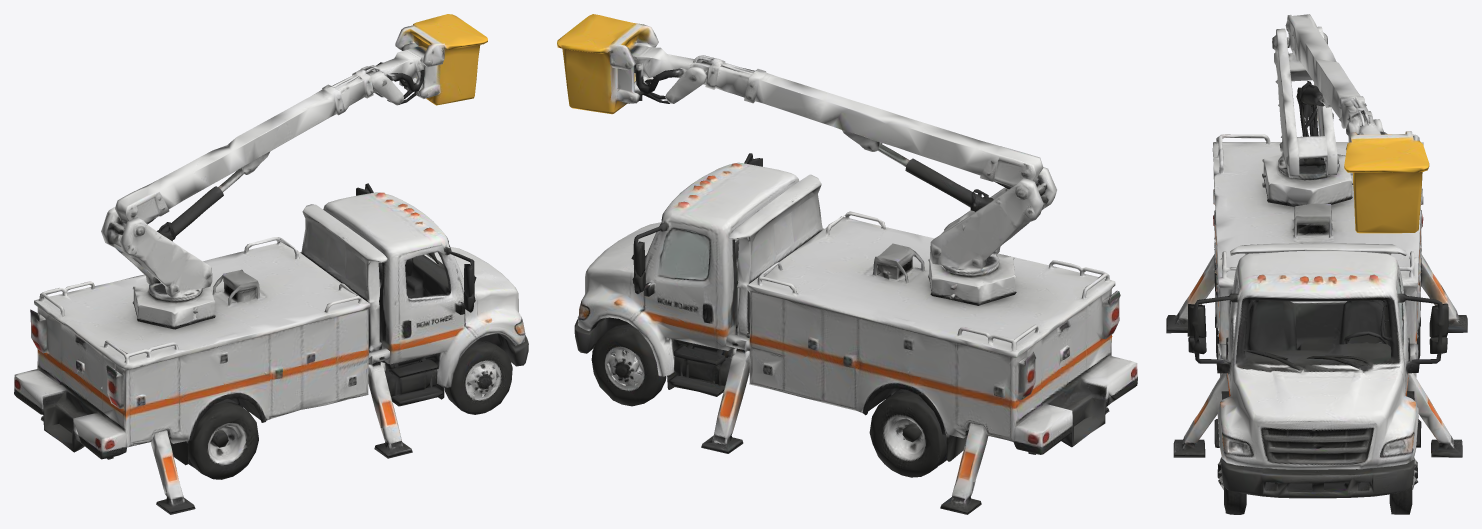
Rendered from lt_truck.glb.
3 views of the same model, side by side, from view 1: azimuth 30°, elevation 25°; view 2: azimuth 150°, elevation 25°; view 3: azimuth 270°, elevation 25° (orthographic). The views are drawn at different scales.
Visible parts, largest first — view 1: tripo_node_e43dd8a5-a0bf-4630-b457-f93f4a7f5310; view 2: tripo_node_e43dd8a5-a0bf-4630-b457-f93f4a7f5310; view 3: tripo_node_e43dd8a5-a0bf-4630-b457-f93f4a7f5310.
Boxes of the visible parts, x1,y1,x2,y2 form: tripo_node_e43dd8a5-a0bf-4630-b457-f93f4a7f5310: [14, 14, 528, 514]; tripo_node_e43dd8a5-a0bf-4630-b457-f93f4a7f5310: [557, 14, 1137, 514]; tripo_node_e43dd8a5-a0bf-4630-b457-f93f4a7f5310: [1166, 14, 1467, 514].
Size of the model in its own units: 1 by 0.7056 by 0.5069.
1 material, 1 textured.
